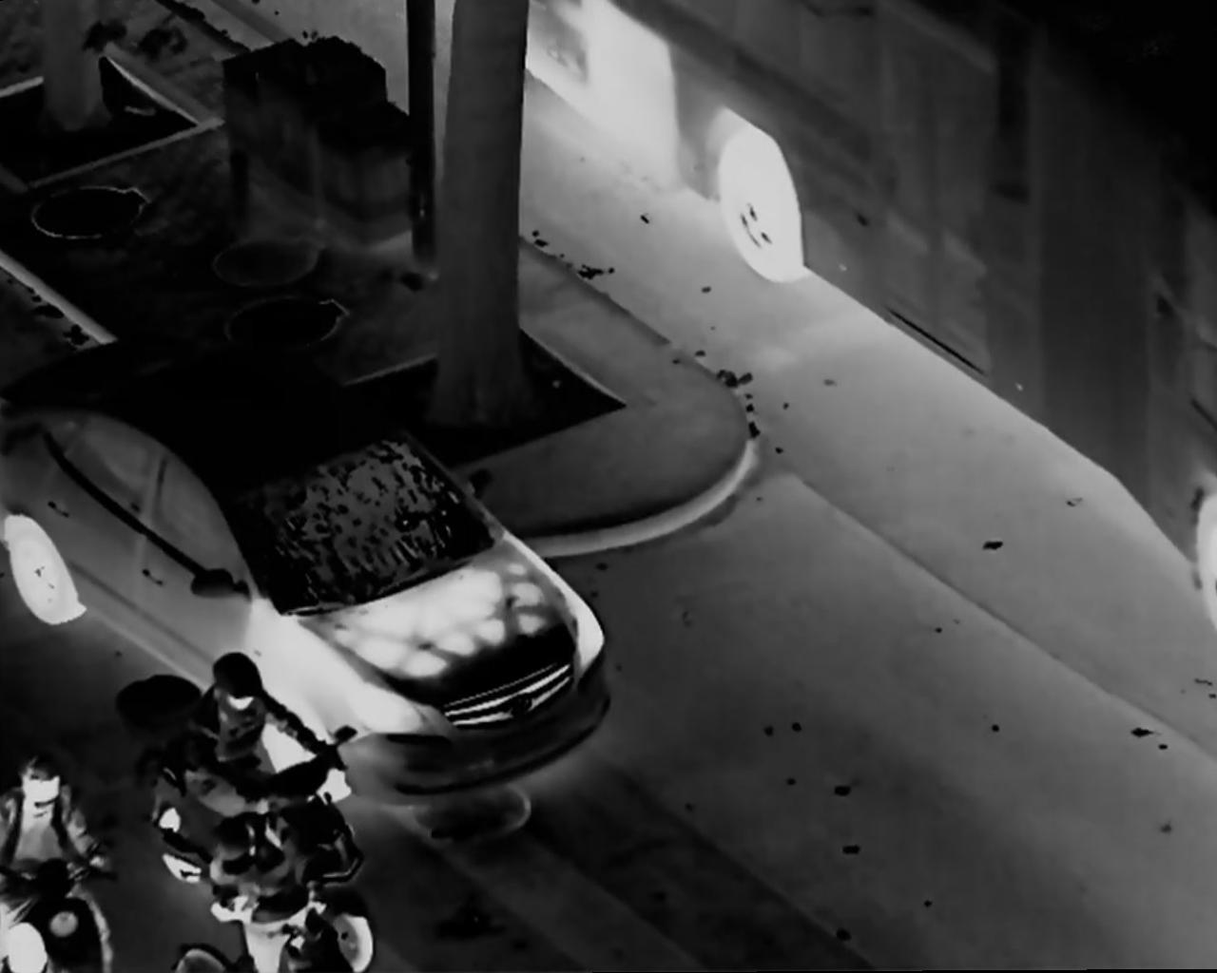person: (161, 653, 340, 919), (200, 816, 381, 973), (3, 740, 123, 960)
